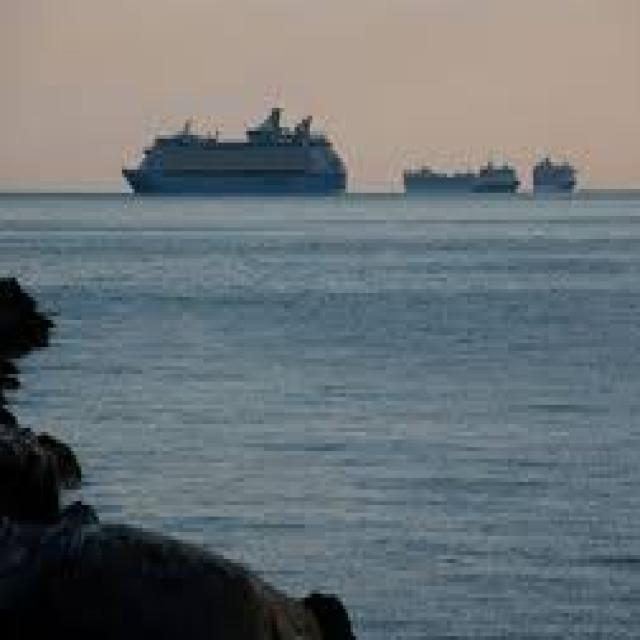cargoship: (126, 91, 359, 211), (393, 132, 519, 202), (528, 140, 574, 208)
